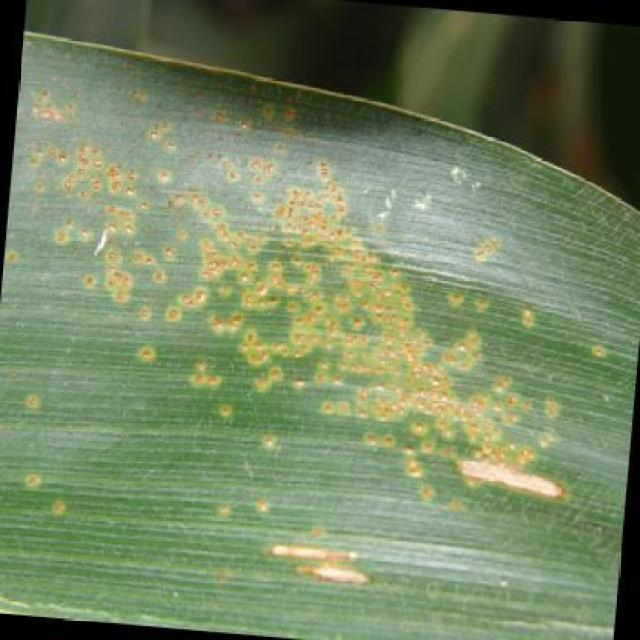Corn_Rust: (26, 28, 614, 598)
